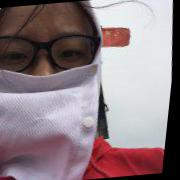WRONG: (1, 11, 108, 139)
